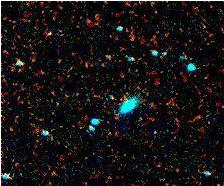star: (33, 18, 63, 48)
